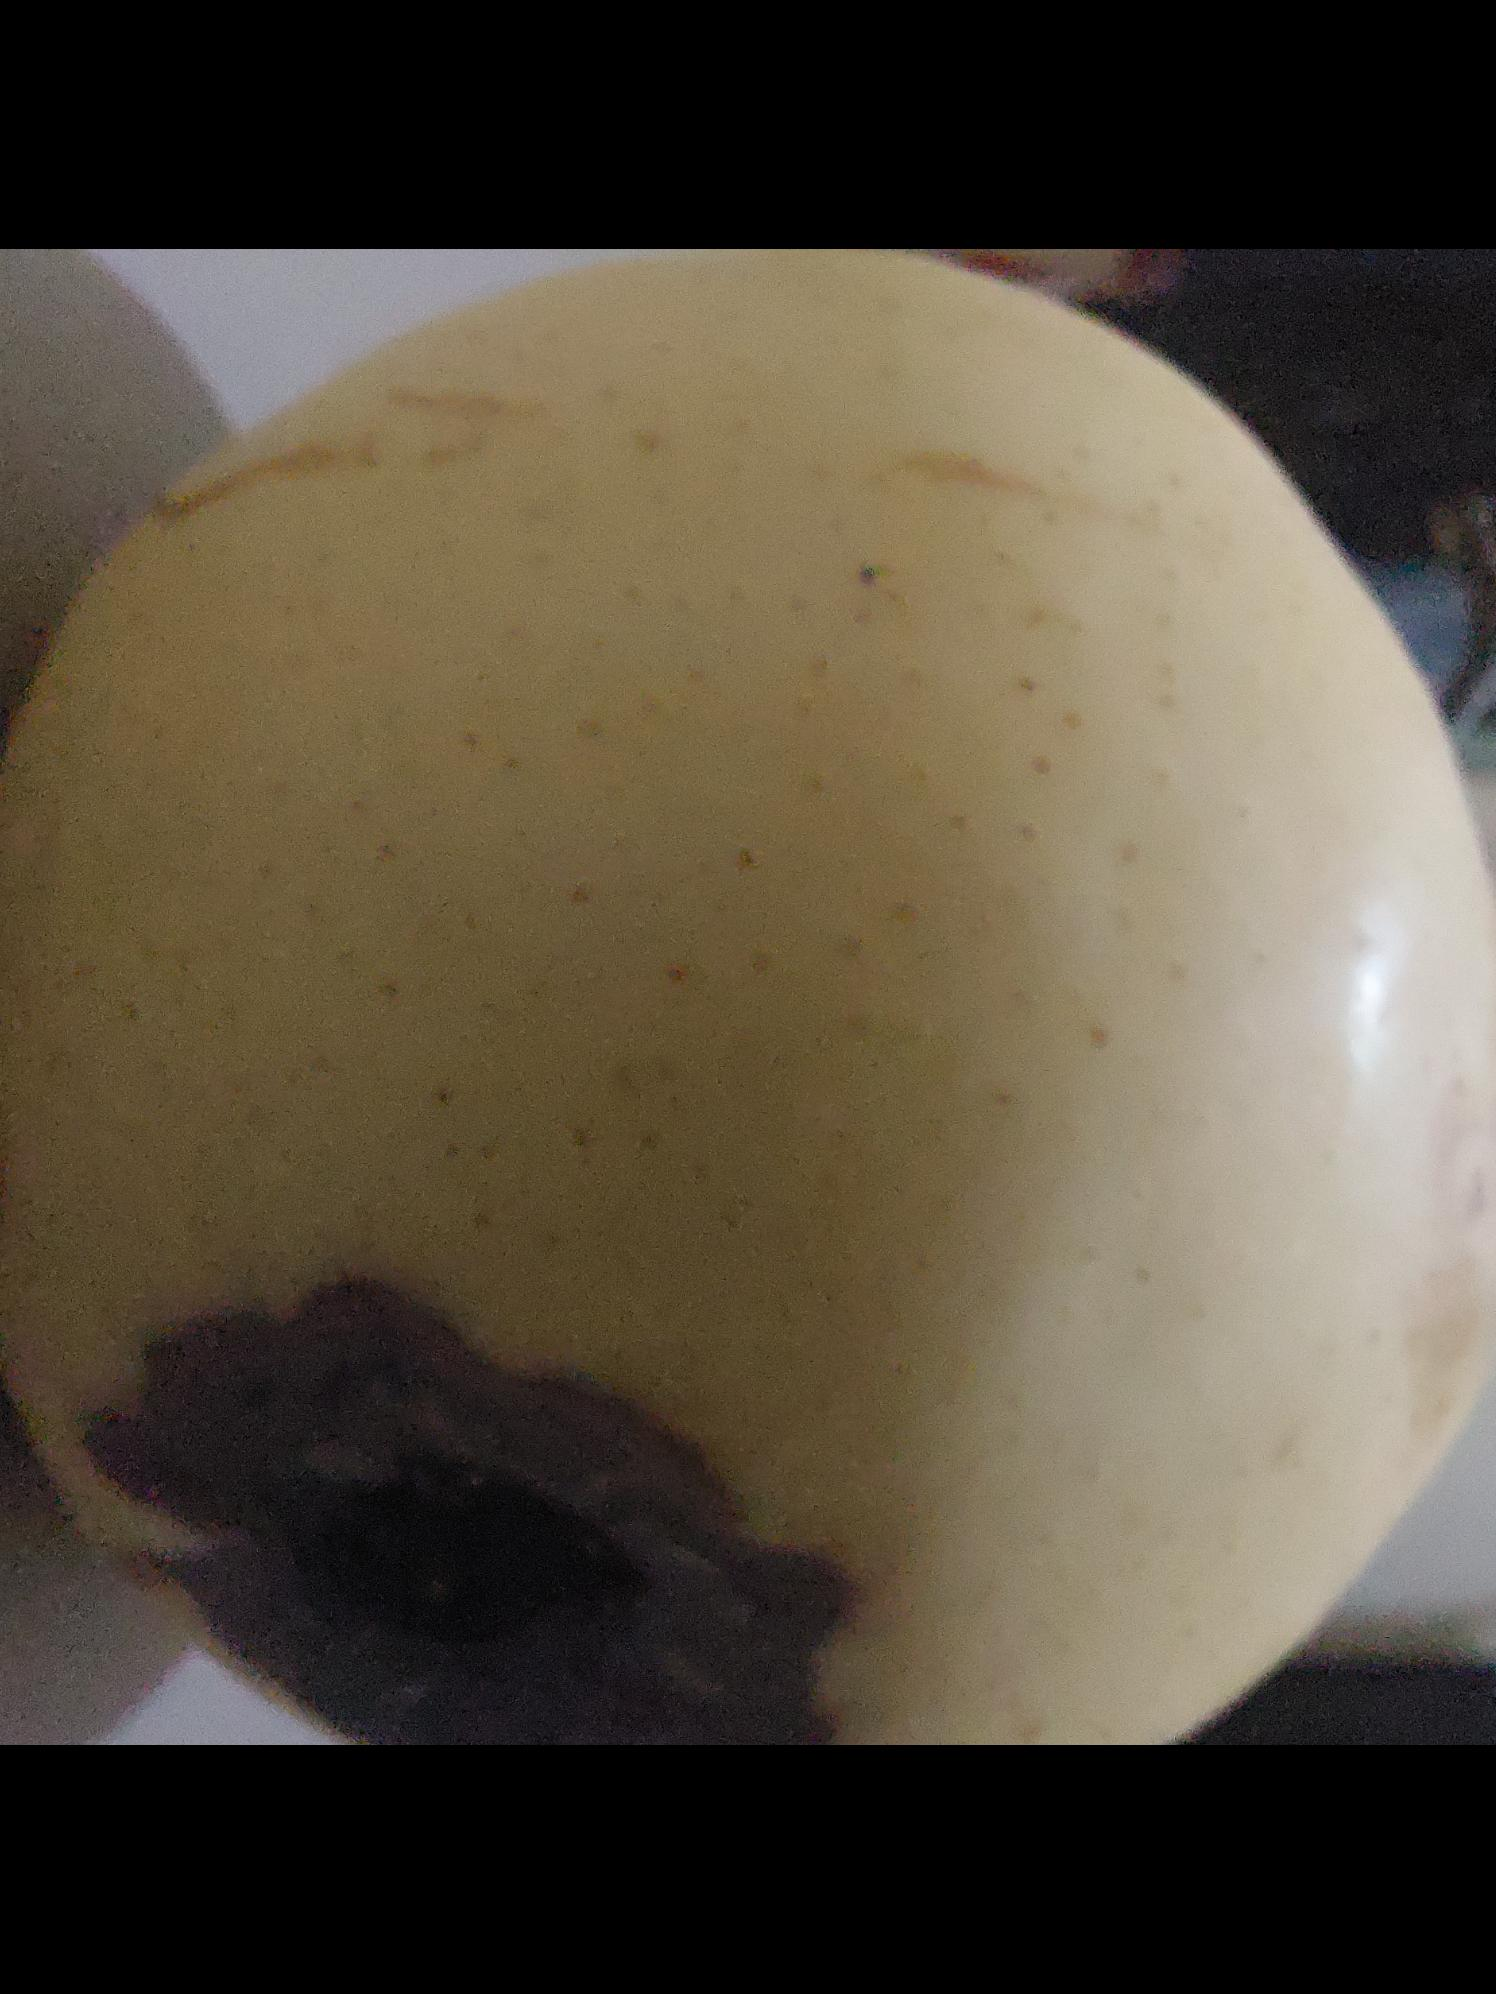Bad Pear: (0, 259, 1496, 1746)
